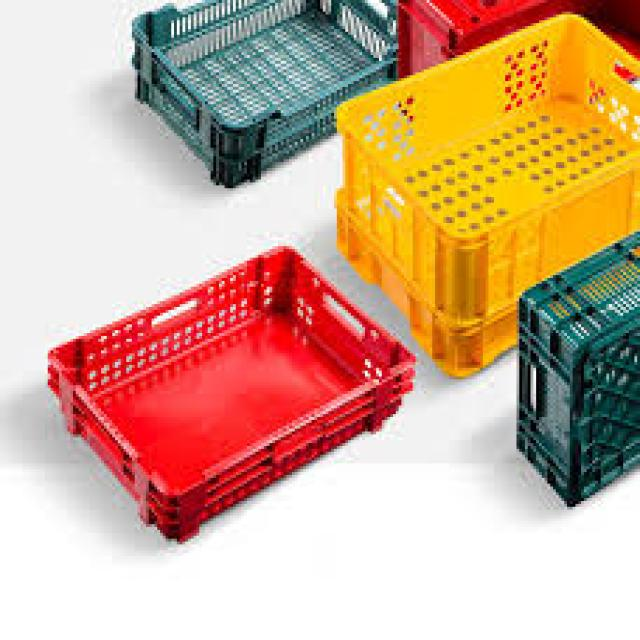basket: (31, 199, 439, 566)
